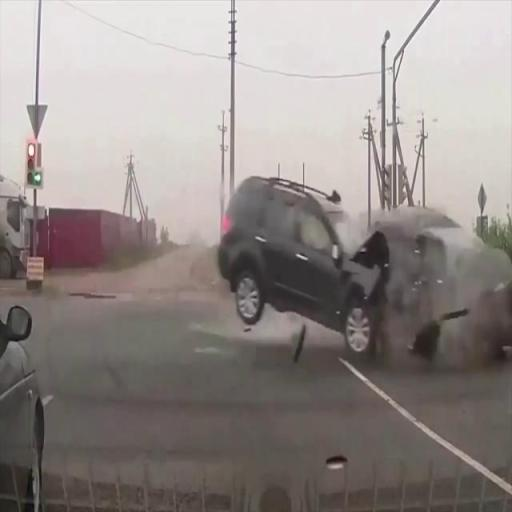小汽车撞小汽车: (214, 168, 510, 366)
